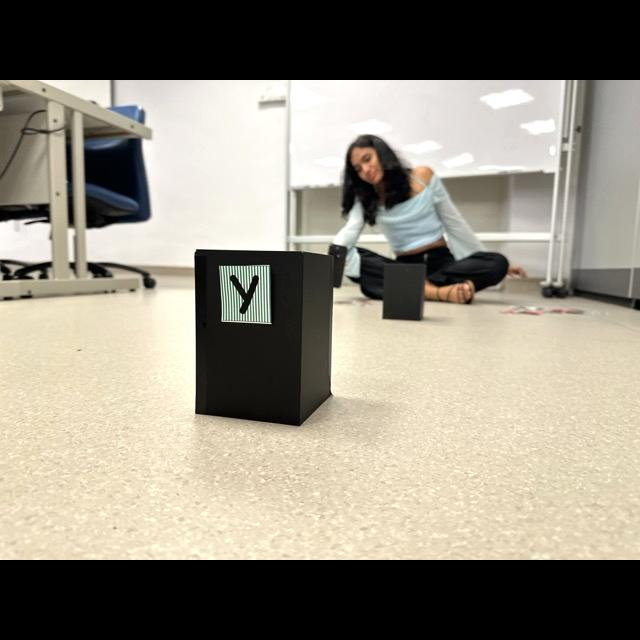Y: (230, 275, 259, 315)
